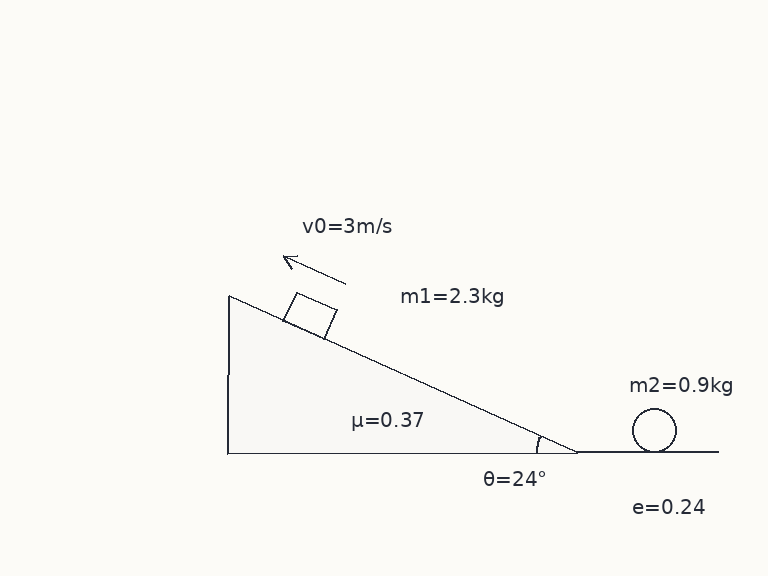ball: (630, 406, 678, 454)
block: (281, 290, 338, 341)
ramp: (226, 295, 579, 454)
